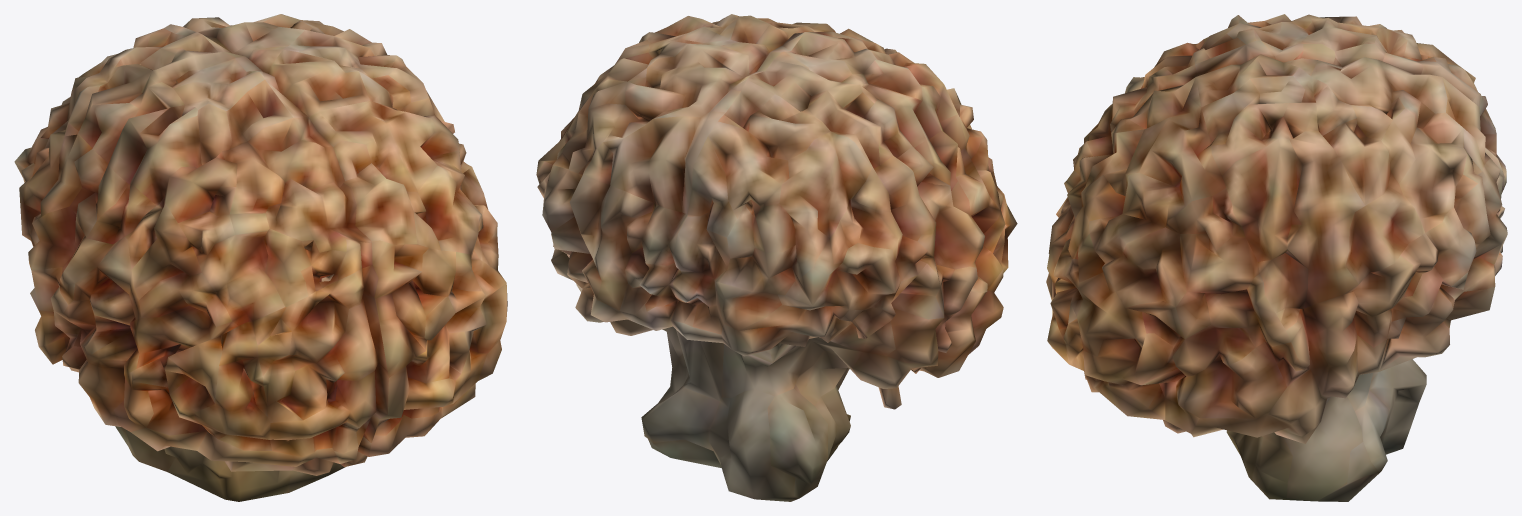
Rendered from brain-coral.glb.
3 views of the same model, side by side, from view 1: azimuth 30°, elevation 25°; view 2: azimuth 150°, elevation 25°; view 3: azimuth 270°, elevation 25° (orthographic). The views are drawn at different scales.
Parts seen in each view (by area): view 1: tripo_node_14632a05-91e8-479a-b575-5c69da21b03c; view 2: tripo_node_14632a05-91e8-479a-b575-5c69da21b03c; view 3: tripo_node_14632a05-91e8-479a-b575-5c69da21b03c.
Boxes of the visible parts, bbox=[...] form: tripo_node_14632a05-91e8-479a-b575-5c69da21b03c: bbox=[14, 14, 507, 501]; tripo_node_14632a05-91e8-479a-b575-5c69da21b03c: bbox=[536, 14, 1017, 501]; tripo_node_14632a05-91e8-479a-b575-5c69da21b03c: bbox=[1046, 14, 1507, 501].
Size of the model in its own units: 0.9422 by 0.9266 by 0.94.
1 material, 1 textured.
